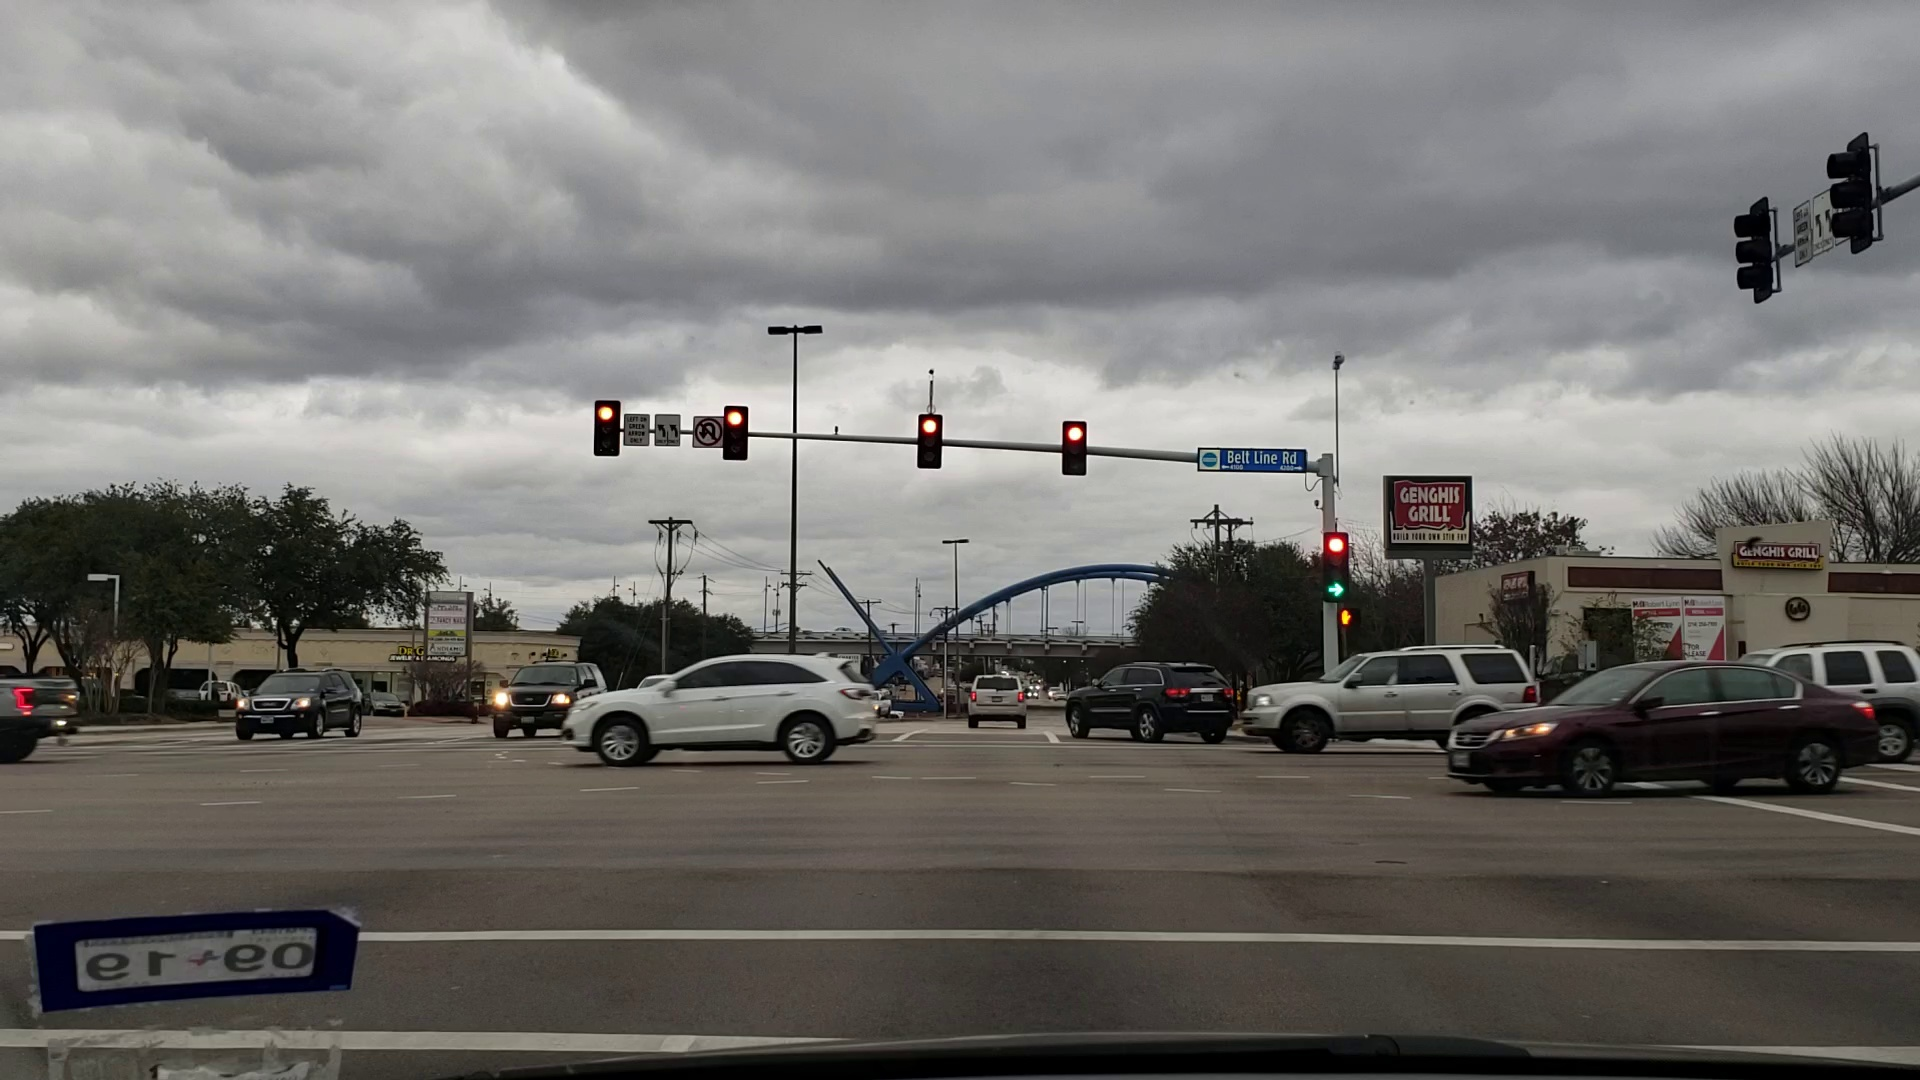car: (1458, 646, 1892, 816), (567, 647, 880, 764), (1254, 644, 1548, 748), (1731, 634, 1920, 765), (1065, 658, 1240, 752), (488, 657, 628, 740), (236, 659, 369, 738), (5, 654, 94, 764), (971, 669, 1025, 731), (369, 686, 411, 716), (200, 675, 247, 702)
traffic light: (1727, 208, 1771, 297), (1829, 146, 1863, 239), (1325, 535, 1350, 597), (596, 398, 621, 452), (1062, 423, 1087, 477), (920, 411, 945, 465), (724, 404, 749, 458)
